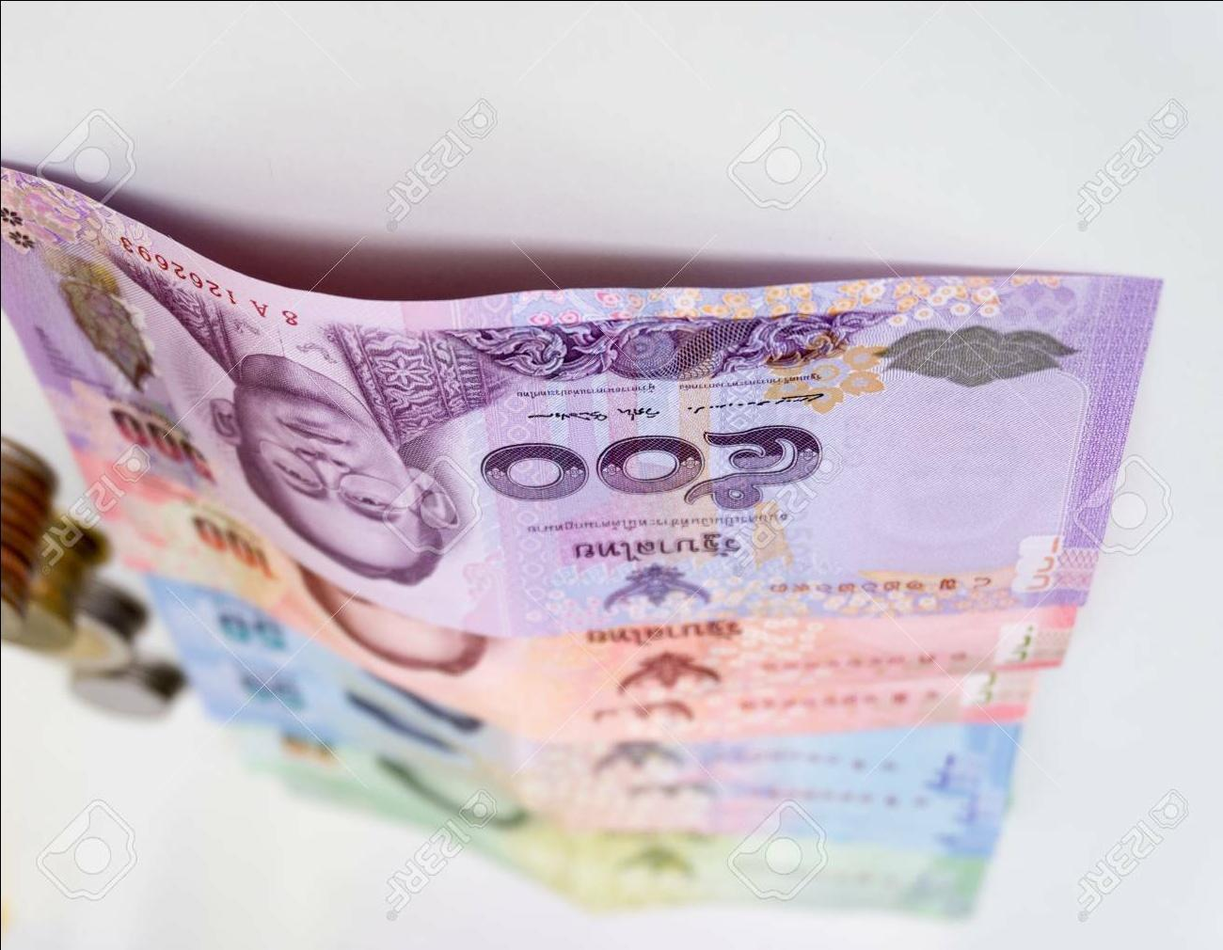500BahtTai: (0, 280, 1156, 561)
